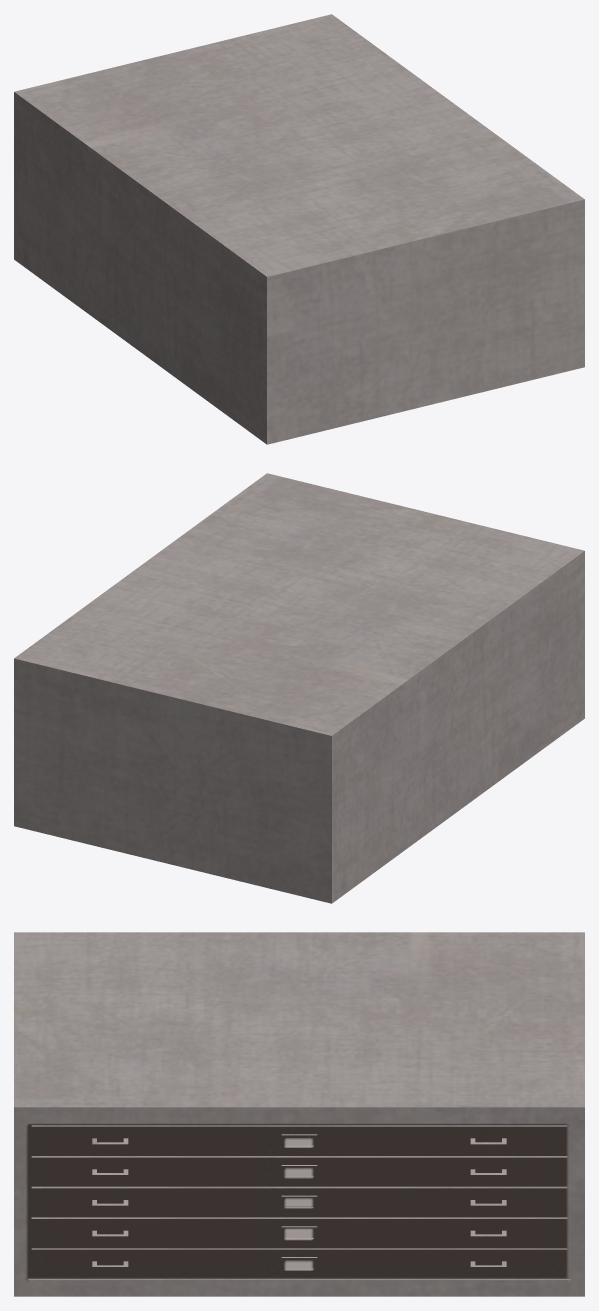
Rendered from Drawer.fbx.
3 views of the same model, one above another, from view 1: azimuth 30°, elevation 25°; view 2: azimuth 150°, elevation 25°; view 3: azimuth 270°, elevation 25° (orthographic). The views are drawn at different scales.
Visible parts, largest first — view 1: Layer_12ZF; view 2: Layer_12ZF; view 3: Layer_12ZF.
Boxes of the visible parts, x1,y1,x2,y2 form: Layer_12ZF: (14,14,584,444); Layer_12ZF: (14,473,584,903); Layer_12ZF: (14,932,584,1296).
Bounding box in the file's own units: 299 × 146 × 400.
Materials: 1 (1 with a texture image).
